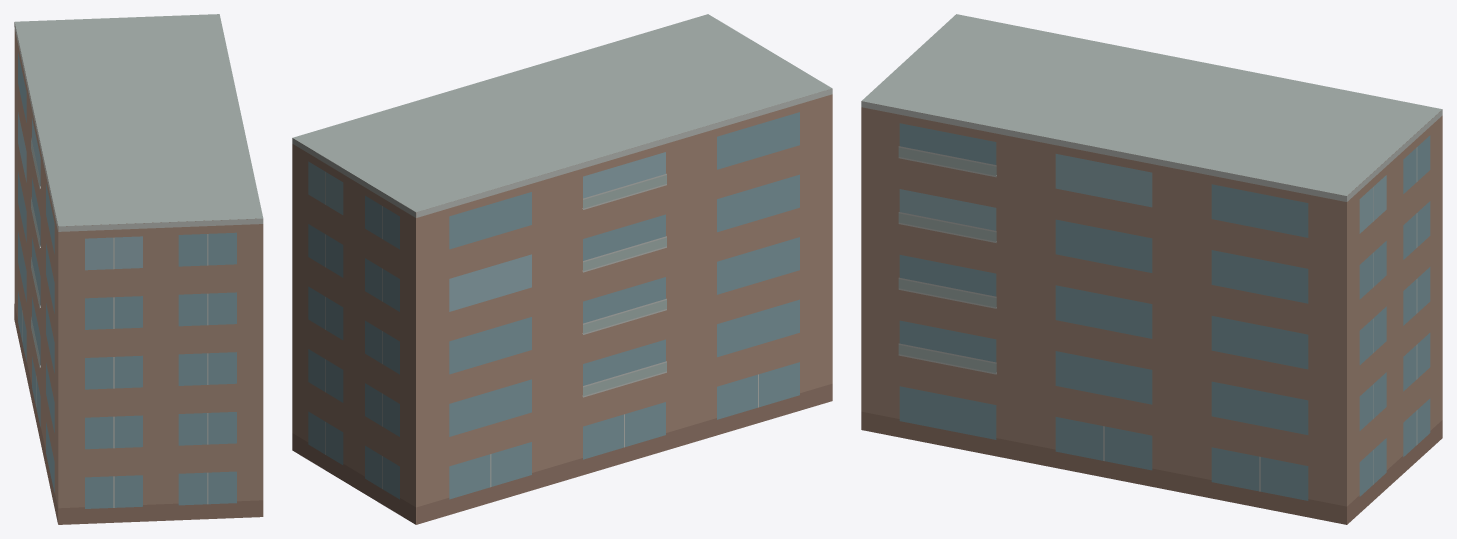
Rendered from survey-upis-32633703.glb.
3 renders of one model, left to right at view 1: azimuth 30°, elevation 25°; view 2: azimuth 150°, elevation 25°; view 3: azimuth 270°, elevation 25°, orthographic. The views are drawn at different scales.
Parts seen in each view (by area): view 1: survey-upis-32633703.tmp; view 2: survey-upis-32633703.tmp; view 3: survey-upis-32633703.tmp.
Boxes of the visible parts, left/top/right/bottom form: survey-upis-32633703.tmp: left=14, top=14, right=263, bottom=524; survey-upis-32633703.tmp: left=292, top=14, right=832, bottom=524; survey-upis-32633703.tmp: left=861, top=14, right=1442, bottom=524.
Bounding box in the file's own units: 15.68 × 13.2 × 21.16.
